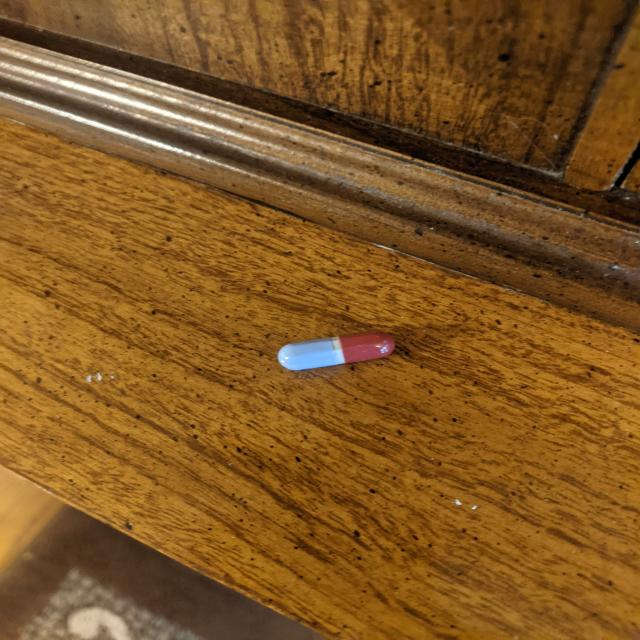non-organic waste: (276, 328, 398, 372)
